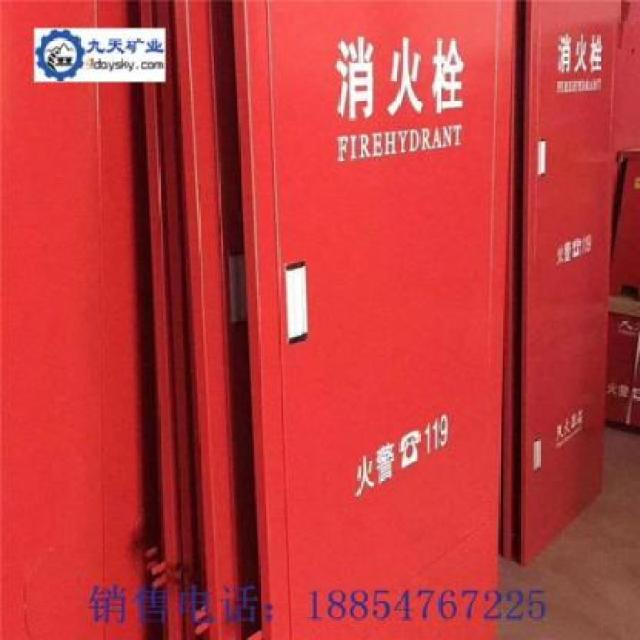firehydrant: (231, 0, 509, 640), (515, 0, 622, 572)
